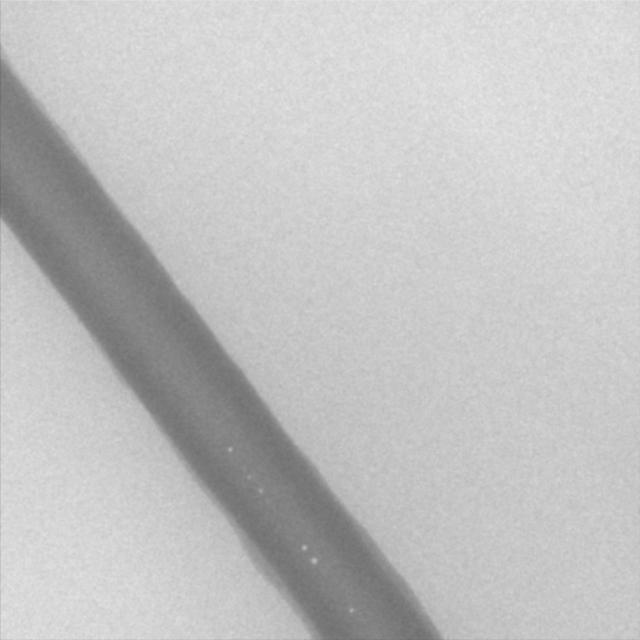air hole: (226, 443, 234, 454), (299, 542, 308, 551), (310, 556, 318, 566), (348, 606, 355, 615)
